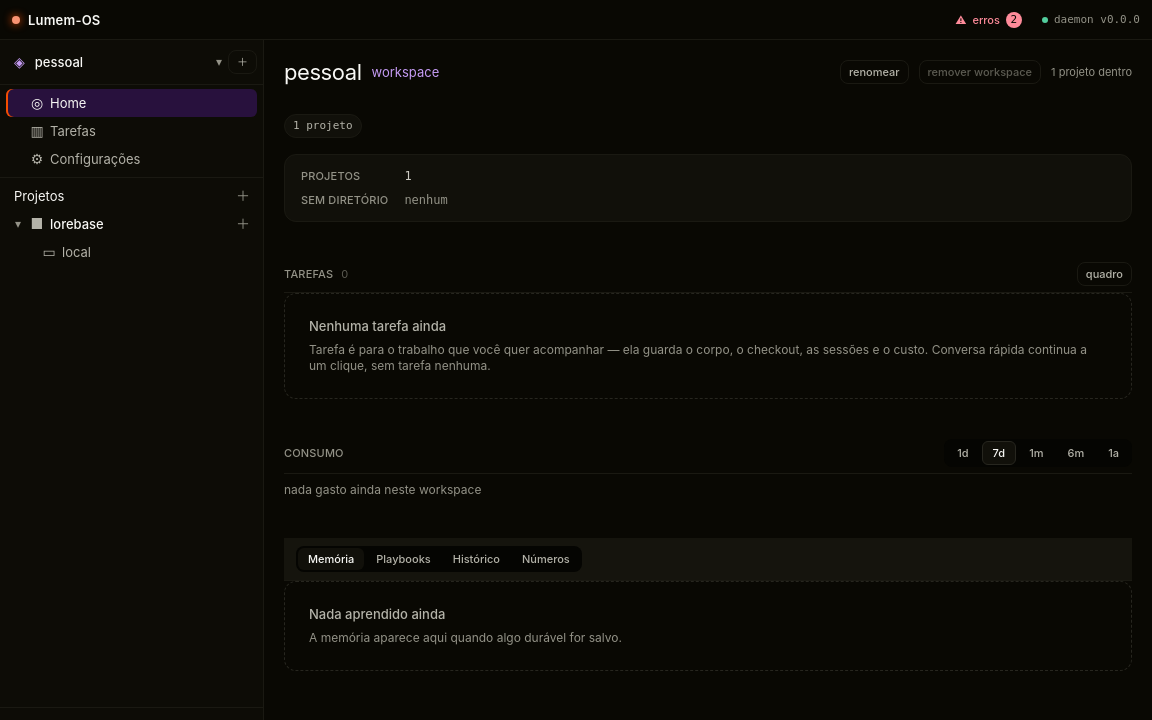
Test: create worktree › creates one and selects it
The width and height of the screenshot is (1152, 720).
Click the button "■ lorebase" at {"x": 128, "y": 224}, box x1=26 y1=210 x2=231 y2=238
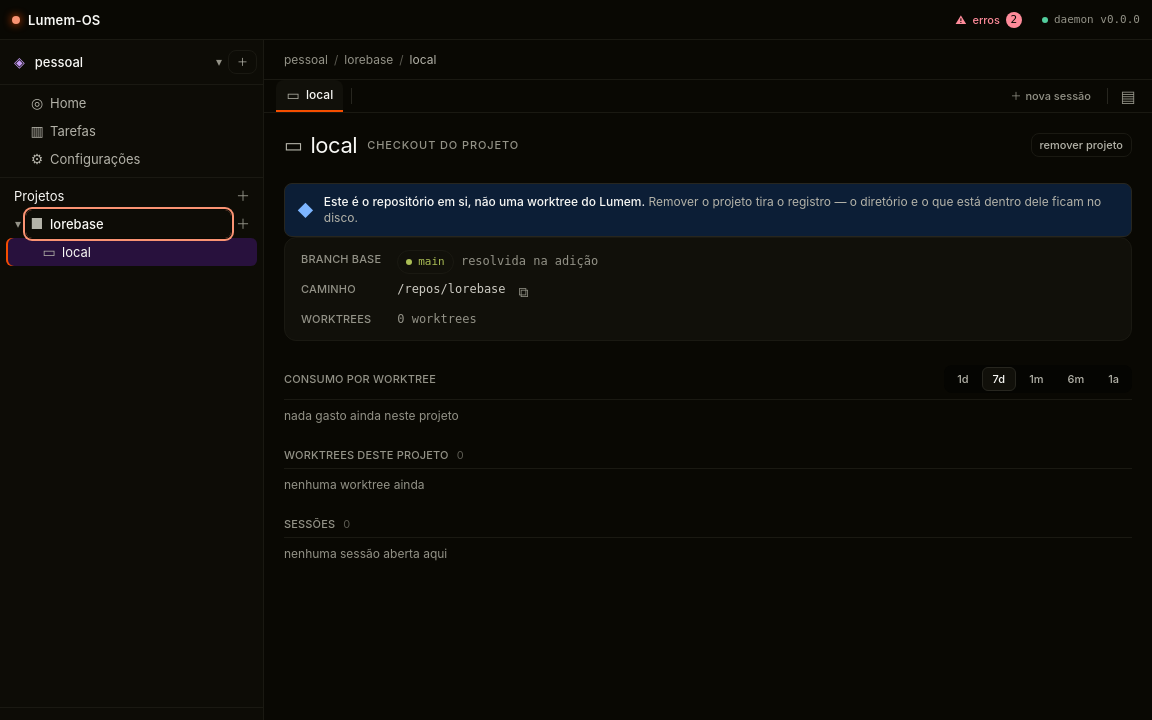
Click the button named "nova worktree em lorebase" at {"x": 243, "y": 224}, box x1=231 y1=212 x2=255 y2=236
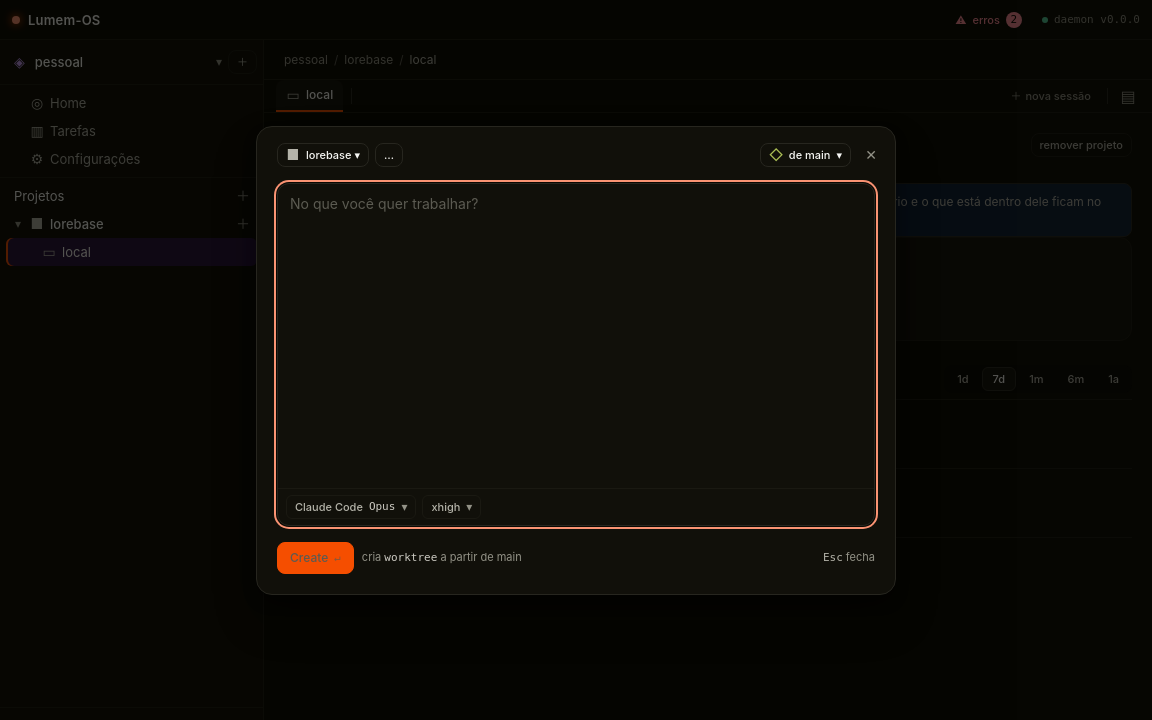
Type "corrigir o bug do login" into the text box labelled "No que você quer trabalhar?" at {"x": 576, "y": 336}, box x1=278 y1=184 x2=874 y2=488
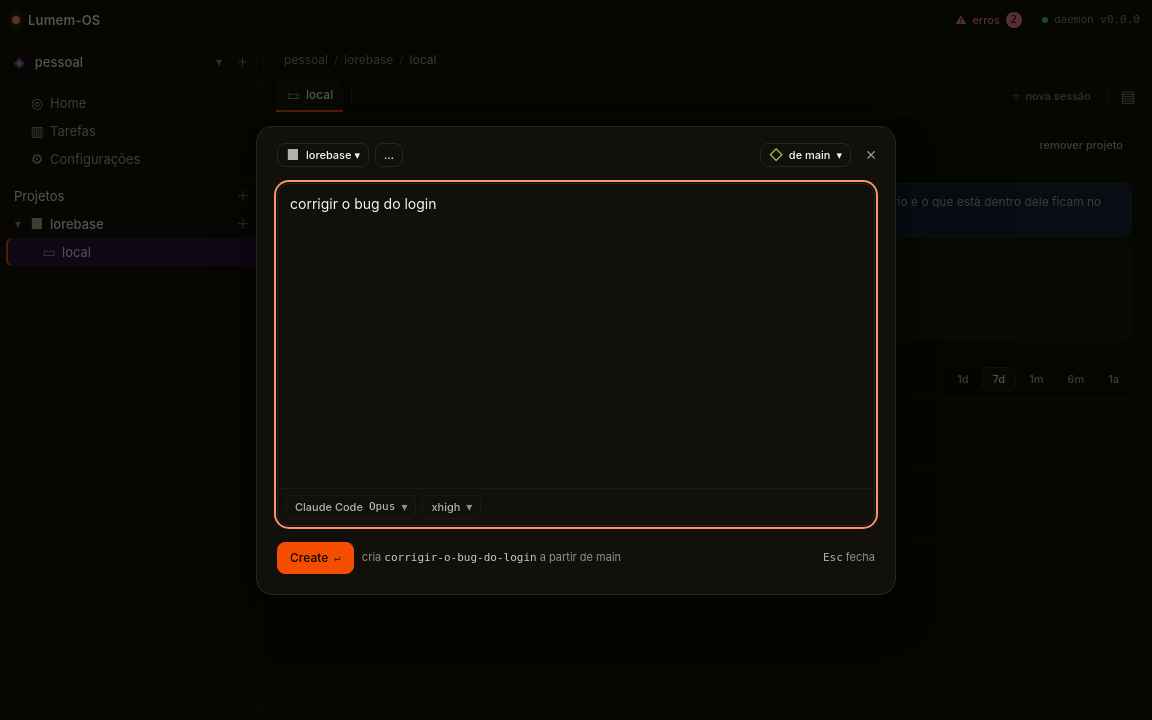
Click the button "Create ↵" at {"x": 315, "y": 558}, box x1=277 y1=542 x2=354 y2=574
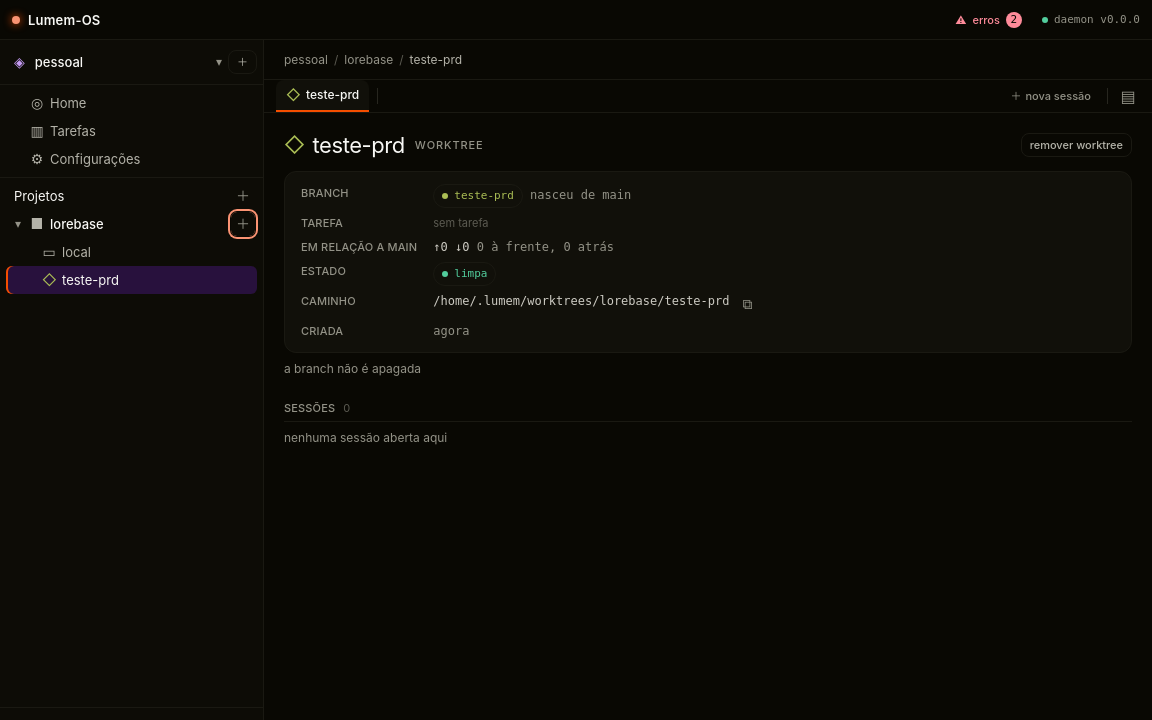
Check: the heading "◇ teste-prd" is shown, box x1=284 y1=131 x2=405 y2=159
